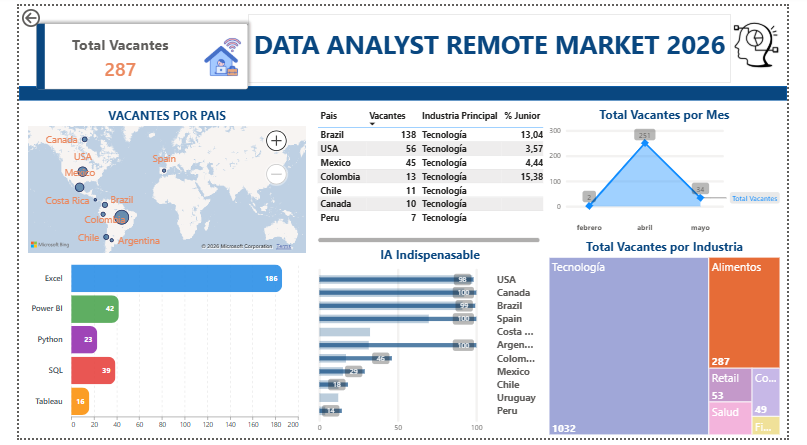

Layout of this report page (visuals, bound fields, positions):
{"tool":"powerbi","page":{"name":"Página 1","canvas":[1280,720],"ordinal":0},"visuals":[{"type":"textbox","box":[381.6,13,805,115.2],"z":0},{"type":"image","box":[1186.6,0,83.5,129.6],"z":1000},{"type":"shape","box":[0,133.9,1280.2,24.5],"z":2000},{"type":"cardVisual","title":"Vacantes en Remoto","fields":{"Data":["FactJobPostings.Total Vacantes"]},"box":[0,0,411.7,168.3],"z":3000},{"type":"map","title":"VACANTES POR PAIS","fields":{"Category":["DimCountry.CountryName"],"Size":["FactJobPostings.Total Vacantes"]},"box":[10.1,168.5,473.8,249.1],"z":4000},{"type":"deneb7E15AEF80B9E4D4F8E12924291ECE89A","fields":{"dataset":["SkillsTable.Skill","DimCompany.Valor Skill"]},"box":[10.1,417.6,473.8,302.4],"z":5000},{"type":"actionButton","box":[0,0,100,40],"z":6000},{"type":"clusteredBarChart","title":"IA Indispenasable","fields":{"Category":["DimCountry.CountryName"],"Y":["_Medidas.% IA por país"]},"box":[491.7,400,386.7,320],"z":7000},{"type":"stackedAreaChart","fields":{"Category":["DimDate.DateValue.Variación.Jerarquía de fechas.Año","DimDate.DateValue.Variación.Jerarquía de fechas.Trimestre","DimDate.DateValue.Variación.Jerarquía de fechas.Mes"],"Y":["FactJobPostings.Total Vacantes"]},"box":[878.4,167,394.6,220.3],"z":8000},{"type":"tableEx","fields":{"Values":["DimCountry.CountryName","FactJobPostings.Total Vacantes","_Medidas.Industria Principal","_Medidas.% Vacantes Junior"]},"box":[492.5,167,387.4,233.3],"z":9000},{"type":"treemap","fields":{"Group":["FactJobPostings.Industria"],"Values":["FactJobPostings.Total Vacantes"]},"box":[878.3,386.7,395,333.3],"z":10000}]}

Visuals, with their boxes in screenshot pixels (x1, y1, x2, y2), scaled from the page's 1280x720 canvas onto the 807x445 screenshot:
textbox: x1=241 y1=8 x2=748 y2=79
image: x1=748 y1=0 x2=801 y2=80
shape: x1=0 y1=83 x2=806 y2=98
"Vacantes en Remoto" cardVisual: x1=0 y1=0 x2=260 y2=104
"VACANTES POR PAIS" map: x1=6 y1=104 x2=305 y2=258
deneb7E15AEF80B9E4D4F8E12924291ECE89A - SkillsTable.Skill x DimCompany.Valor Skill: x1=6 y1=258 x2=305 y2=444
actionButton: x1=0 y1=0 x2=63 y2=25
"IA Indispenasable" clusteredBarChart: x1=310 y1=247 x2=554 y2=444
stackedAreaChart - DimDate.DateValue.Variación.Jerarquía de fechas.Año x DimDate.DateValue.Variación.Jerarquía de fechas.Trimestre: x1=554 y1=103 x2=803 y2=239
tableEx - DimCountry.CountryName x FactJobPostings.Total Vacantes: x1=311 y1=103 x2=555 y2=247
treemap - FactJobPostings.Industria x FactJobPostings.Total Vacantes: x1=554 y1=239 x2=803 y2=444
